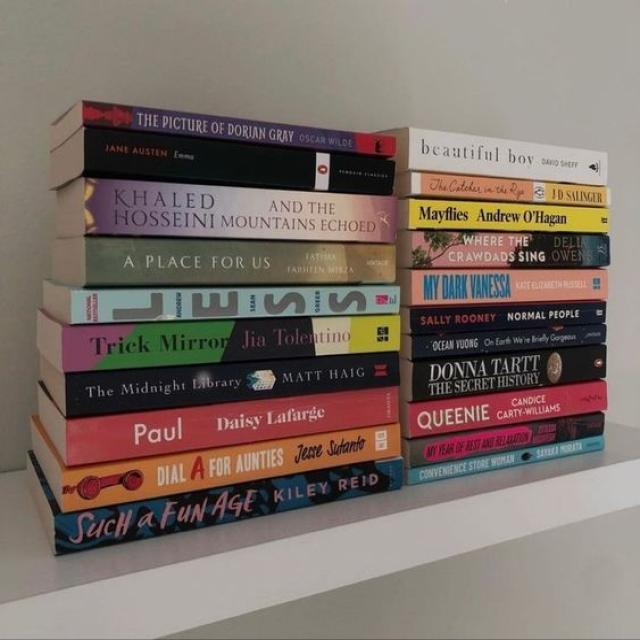book: (53, 457, 404, 558), (61, 424, 401, 515), (66, 386, 400, 466), (65, 353, 401, 417), (84, 128, 395, 194), (86, 178, 400, 241), (60, 318, 400, 373), (81, 99, 395, 158), (84, 237, 394, 287), (70, 287, 400, 324), (407, 129, 606, 186), (408, 382, 606, 439), (413, 346, 606, 403), (410, 415, 603, 469), (408, 433, 604, 486), (412, 230, 611, 268), (408, 199, 609, 233), (411, 173, 611, 206), (412, 270, 609, 303), (412, 327, 607, 359), (410, 304, 607, 334)
